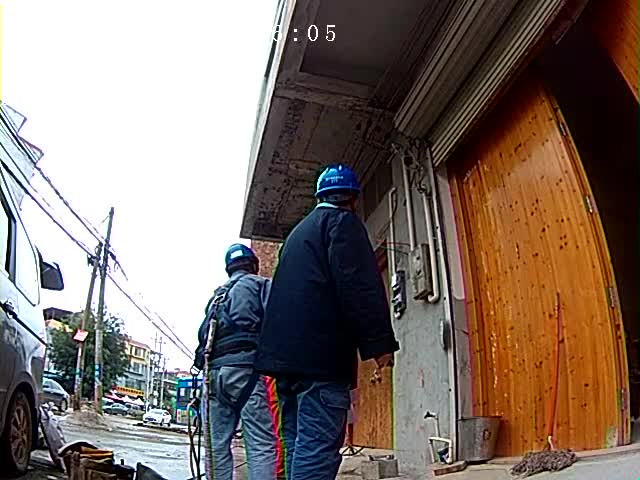downsuit: (205, 371, 275, 480), (280, 383, 354, 480)
halt: (315, 165, 365, 211), (224, 242, 262, 276)
hand: (375, 350, 394, 370)
person: (256, 164, 399, 480), (193, 242, 275, 480)
safebelt: (180, 276, 250, 480)
upcloth: (266, 204, 400, 382)
upsuit: (197, 271, 272, 368)
